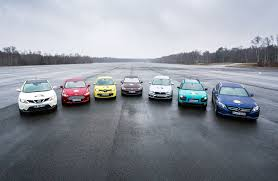car: (211, 82, 261, 125), (15, 76, 59, 117), (180, 76, 208, 108), (61, 77, 92, 105), (150, 75, 177, 100), (95, 74, 119, 100), (121, 74, 146, 96)
